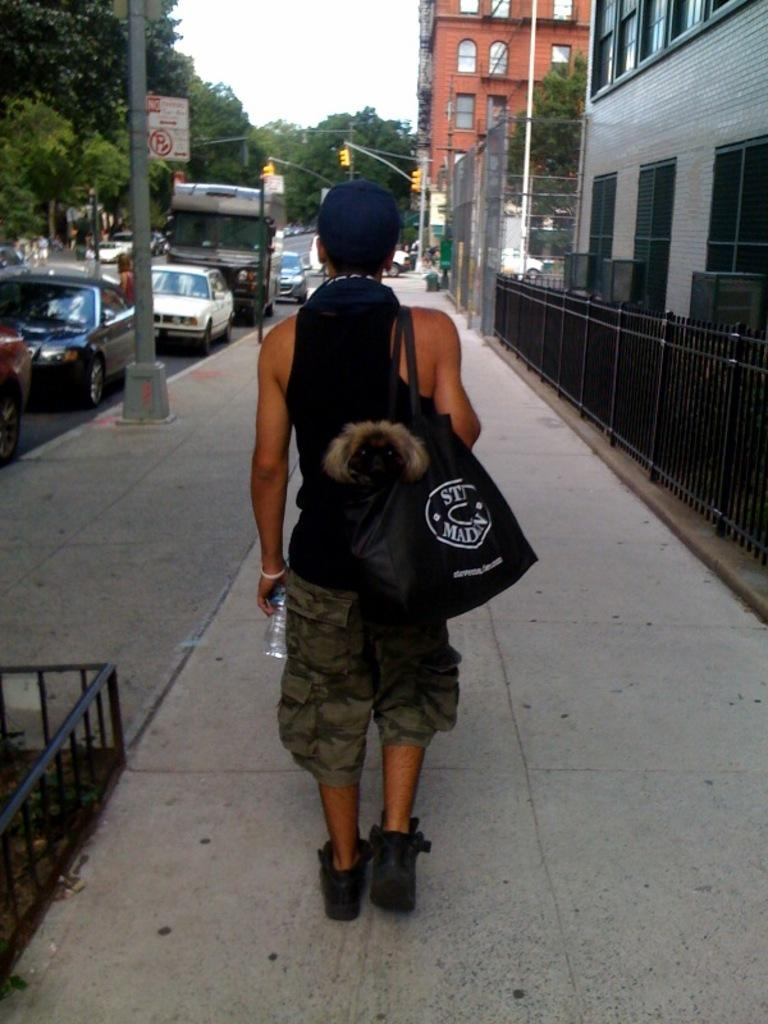Luggage-and-bags: (323, 308, 527, 631)
